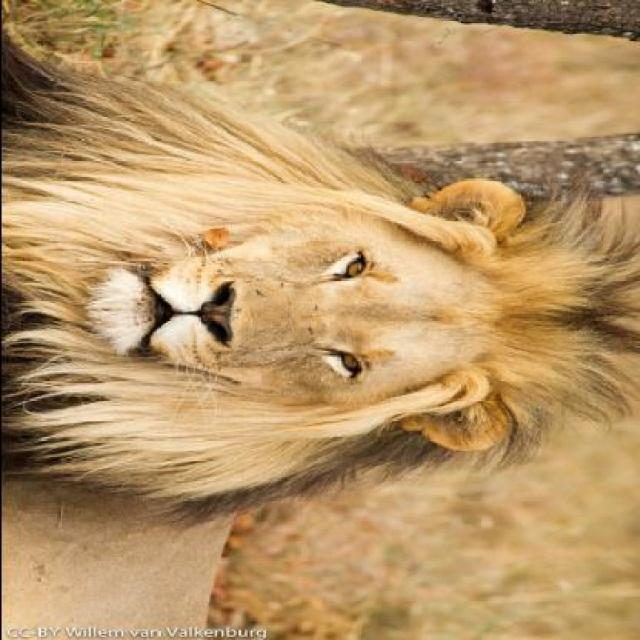Lion: (1, 56, 634, 544)
